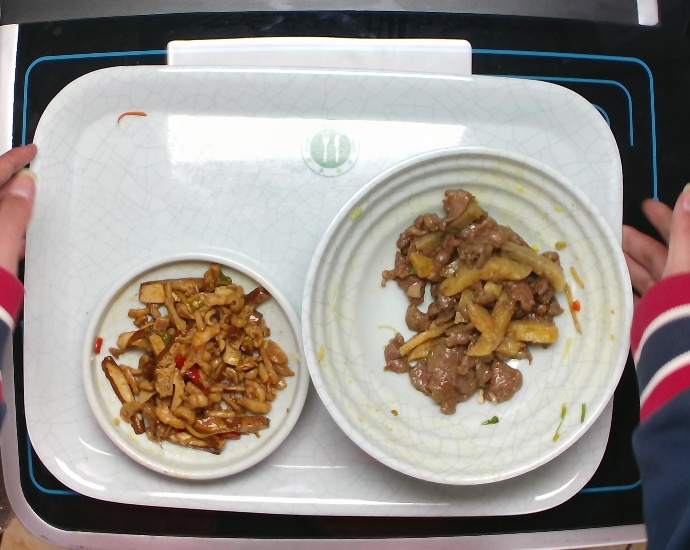JYsf-Da_Tang_Wan: (301, 145, 641, 495)
JYsf-Xiao_Yuan_Pan: (67, 242, 312, 486)
